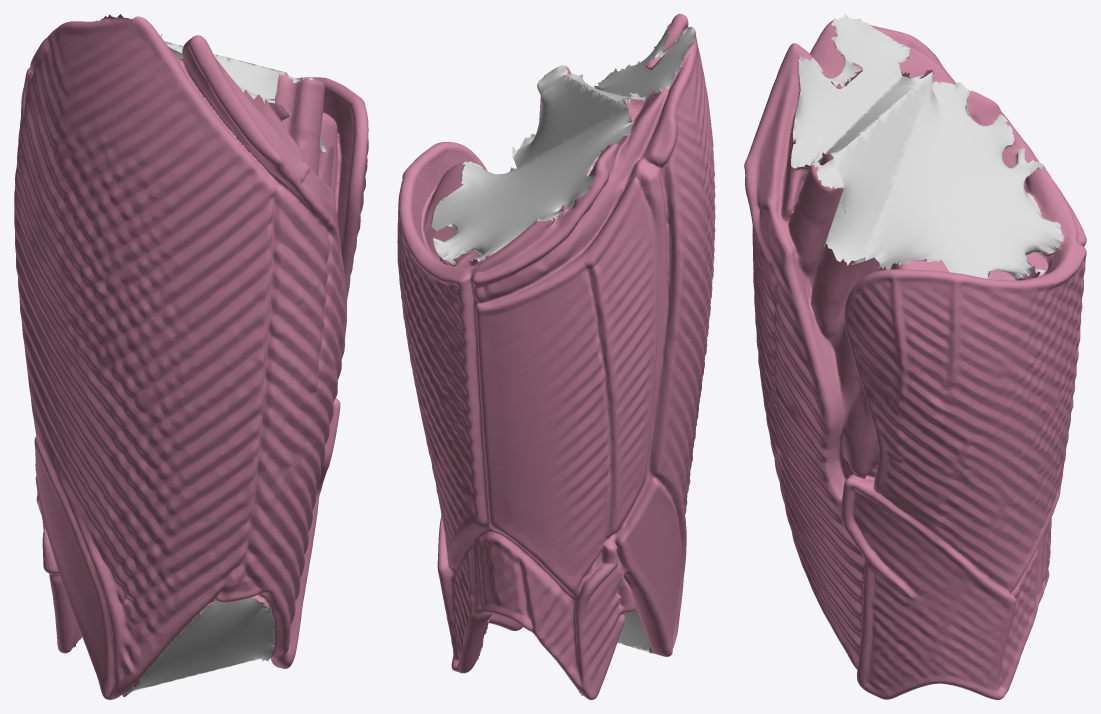
Rendered from Hi3D_Segmented Pastel Female Android 3D Model Asset_part52_20261014_192059.glb.
3 views of the same model, side by side, from view 1: azimuth 30°, elevation 25°; view 2: azimuth 150°, elevation 25°; view 3: azimuth 270°, elevation 25° (orthographic). The views are drawn at different scales.
Visible parts, largest first — view 1: Hi3D_Segmented Pastel Female Android 3D Model Asset_part52_2; view 2: Hi3D_Segmented Pastel Female Android 3D Model Asset_part52_2; view 3: Hi3D_Segmented Pastel Female Android 3D Model Asset_part52_2.
Part boxes in pixels (x1,y1,x2,y2): Hi3D_Segmented Pastel Female Android 3D Model Asset_part52_2: (14, 14, 368, 699); Hi3D_Segmented Pastel Female Android 3D Model Asset_part52_2: (397, 14, 715, 699); Hi3D_Segmented Pastel Female Android 3D Model Asset_part52_2: (744, 14, 1086, 699).
Bounding box in the file's own units: 0.0945 × 0.1996 × 0.1018.
